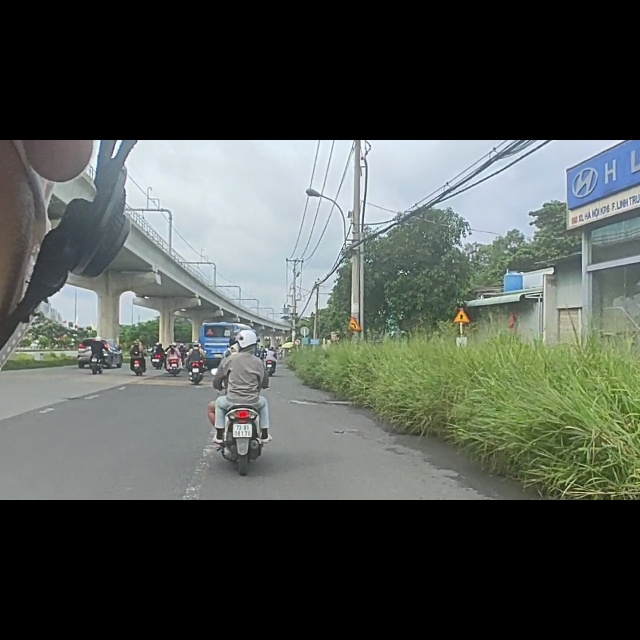bien_nguy_hiem: (453, 299, 471, 326), (346, 314, 364, 340), (293, 353, 302, 366)
